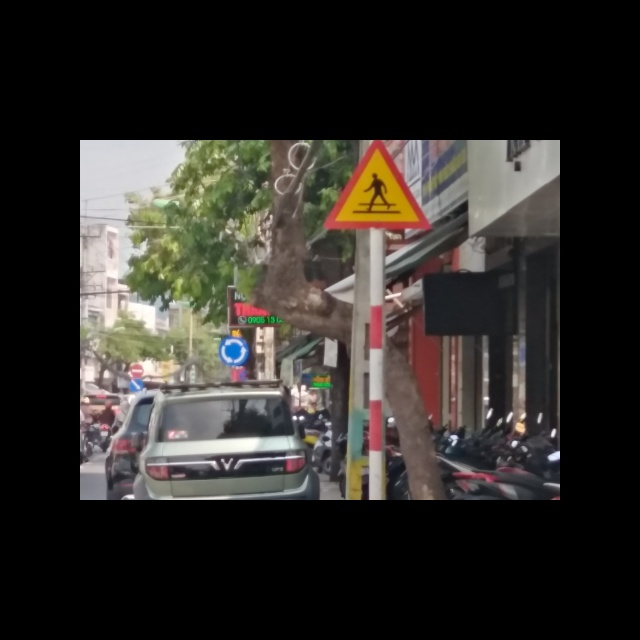Nơi giao nhau chạy theo vòng xuyến: (217, 335, 251, 366)
Đường người đi bộ sang đường: (324, 141, 432, 229)
